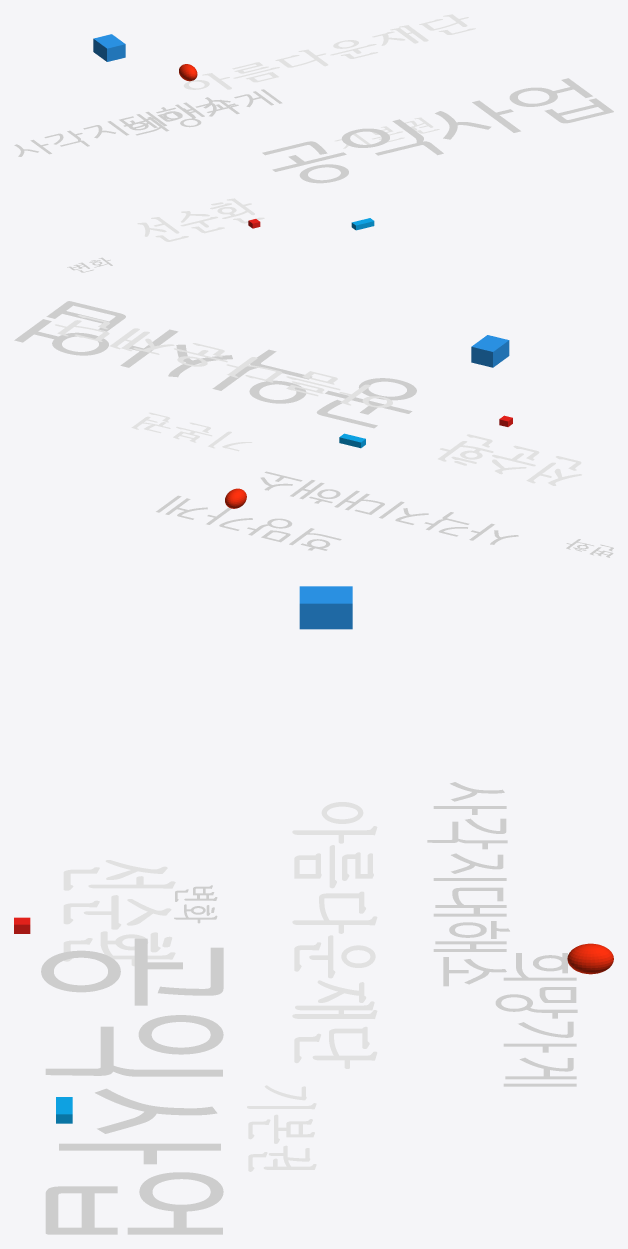
The model's file is beautiful.glb.
3 renders of one model, top to bottom at view 1: azimuth 30°, elevation 25°; view 2: azimuth 150°, elevation 25°; view 3: azimuth 270°, elevation 25°, orthographic. The views are drawn at different scales.
Parts seen in each view (by area): view 1: Text.003, Text, Text.002, Text.004, Text.006, Cube, Text.005; view 2: Text.003, Text, Text.002, Text.004, Text.006, Cube, Text.005, Sphere; view 3: Text.003, Text, Text.002, Text.004, Text.006, Cube, Text.005, Sphere.
Boxes of the visible parts, left/top/right/bottom form: Text.003: left=262, top=78, right=613, bottom=183; Text: left=183, top=14, right=475, bottom=89; Text.002: left=14, top=97, right=238, bottom=156; Text.004: left=137, top=198, right=264, bottom=241; Text.006: left=123, top=89, right=282, bottom=135; Cube: left=93, top=34, right=125, bottom=61; Text.005: left=334, top=117, right=439, bottom=148; Text.003: left=14, top=301, right=416, bottom=428; Text: left=55, top=315, right=392, bottom=407; Text.002: left=260, top=471, right=518, bottom=544; Text.004: left=438, top=434, right=581, bottom=485; Text.006: left=156, top=495, right=341, bottom=550; Cube: left=471, top=335, right=509, bottom=367; Text.005: left=131, top=412, right=252, bottom=451; Sphere: left=225, top=488, right=246, bottom=508; Text.003: left=41, top=938, right=223, bottom=1234; Text: left=292, top=802, right=377, bottom=1068; Text.002: left=427, top=782, right=509, bottom=986; Text.004: left=63, top=860, right=175, bottom=966; Text.006: left=495, top=953, right=577, bottom=1086; Cube: left=299, top=586, right=352, bottom=629; Text.005: left=247, top=1085, right=316, bottom=1171; Sphere: left=567, top=943, right=613, bottom=974.
Bounding box in the file's own units: 9.98 × 3.53 × 5.36.
